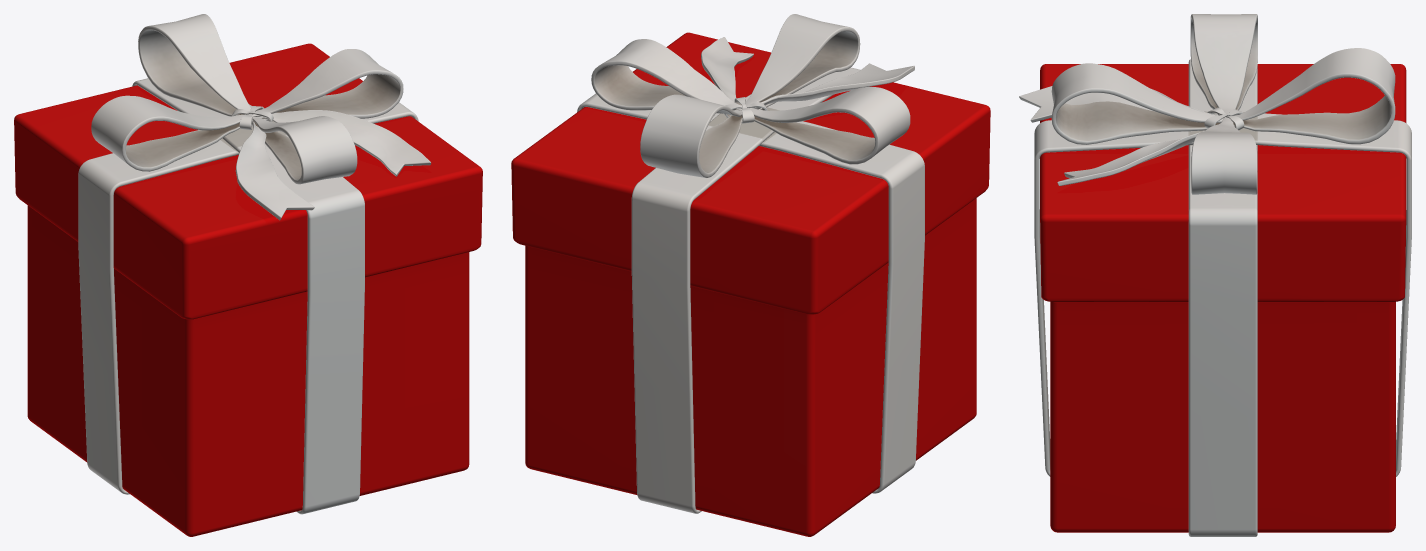
Rendered from Presente.glb.
3 renders of one model, left to right at view 1: azimuth 30°, elevation 25°; view 2: azimuth 150°, elevation 25°; view 3: azimuth 270°, elevation 25°, orthographic. The views are drawn at different scales.
Visible parts, largest first — view 1: present.1; view 2: present.1; view 3: present.1.
Part boxes in pixels (<box>): present.1: <box>14,14,482,536</box>; present.1: <box>511,14,990,536</box>; present.1: <box>1019,14,1411,536</box>.
Bounding box in the file's own units: 0.7643 × 0.914 × 0.7954.
Materials: 1 (1 with a texture image).
